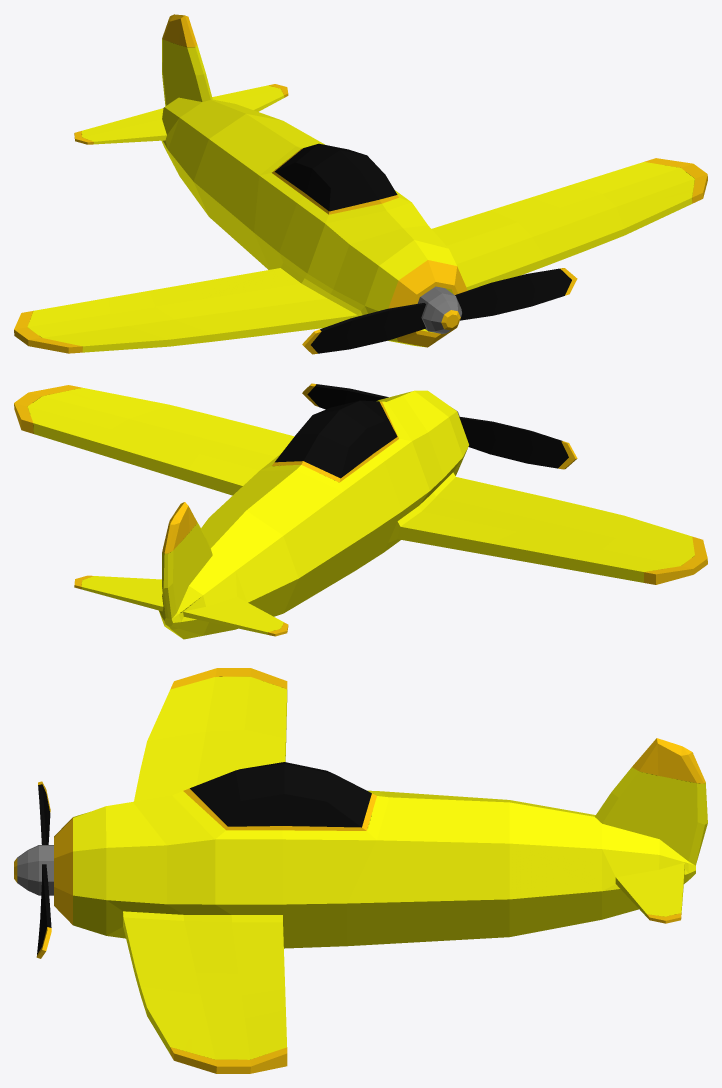
The model's file is incoming-plane-yellow.glb.
3 renders of one model, top to bottom at view 1: azimuth 30°, elevation 25°; view 2: azimuth 150°, elevation 25°; view 3: azimuth 270°, elevation 25°, orthographic. The views are drawn at different scales.
Visible parts, largest first — view 1: Fuselagem, Helice; view 2: Fuselagem, Helice; view 3: Fuselagem, Helice.
Part boxes in pixels (box(x1,y1,x2,y2)): Fuselagem: box(14, 14, 707, 353); Helice: box(302, 268, 577, 354); Fuselagem: box(14, 385, 707, 639); Helice: box(302, 383, 577, 469); Fuselagem: box(54, 668, 707, 1073); Helice: box(14, 781, 53, 958).
Size of the model in its own units: 12.92 by 3.14 by 9.51.
Materials: 4 (1 with a texture image).
